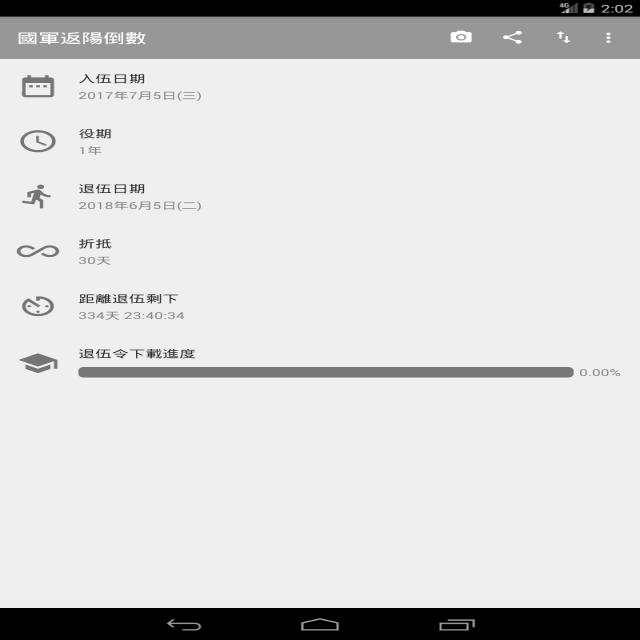ImageButton: (442, 24, 472, 46), (496, 28, 530, 46), (549, 26, 576, 46), (600, 28, 618, 46)
ImageView: (17, 72, 62, 98), (15, 130, 61, 154), (17, 294, 60, 318), (13, 241, 66, 259), (19, 180, 52, 208)
ProgressBar: (76, 365, 625, 380)
TextView: (76, 69, 213, 105), (71, 179, 213, 213), (74, 290, 190, 322), (13, 28, 150, 46), (78, 346, 206, 363)
